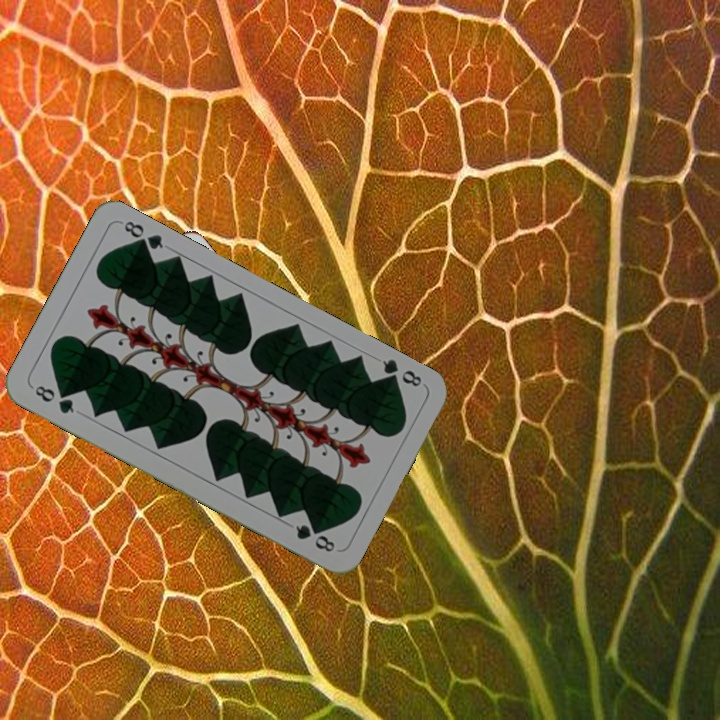G8: (29, 381, 77, 417), (378, 355, 425, 390)
